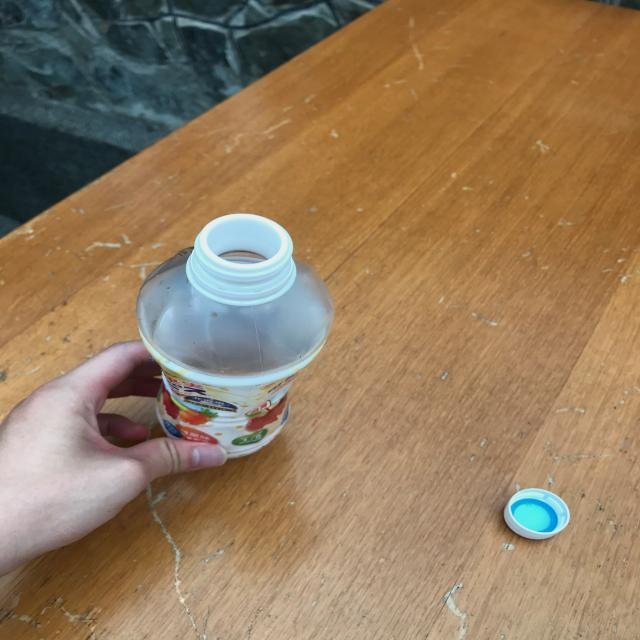bottle: (136, 214, 334, 459)
